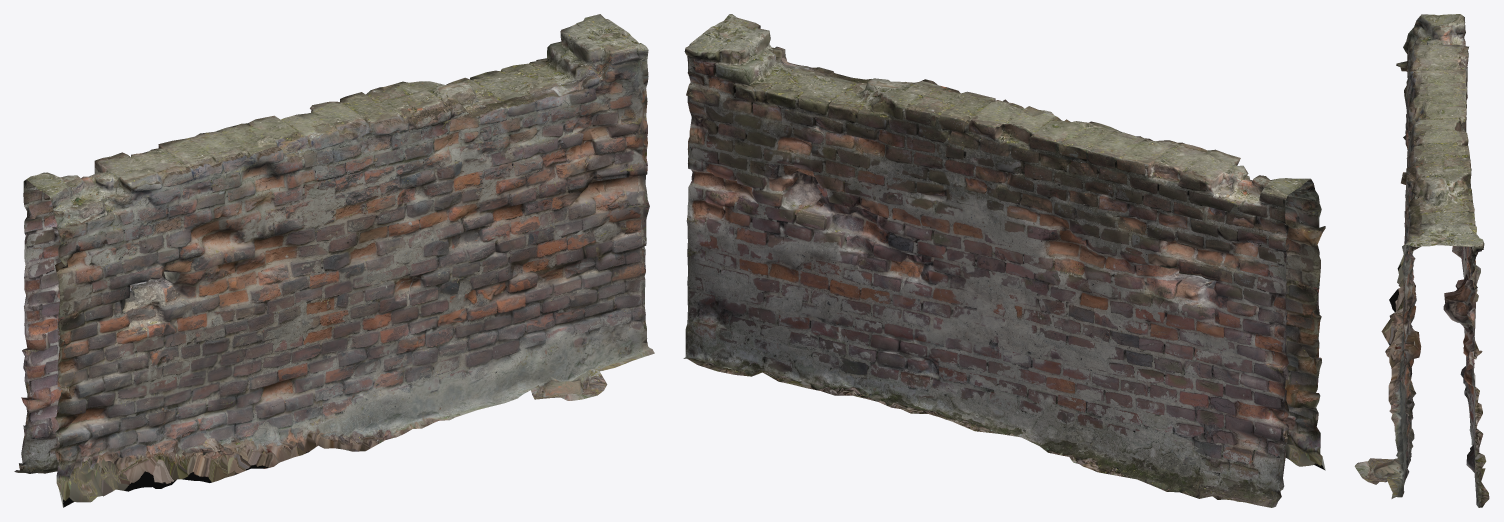
The model's file is sm_Fence_02_01.fbx.
The picture shows the model from 3 angles, left to right: view 1: azimuth 30°, elevation 25°; view 2: azimuth 150°, elevation 25°; view 3: azimuth 270°, elevation 25°; orthographic projection. The views are drawn at different scales.
Visible parts, largest first — view 1: sm_Fence_02_01_LOD0; view 2: sm_Fence_02_01_LOD0; view 3: sm_Fence_02_01_LOD0.
Boxes of the visible parts, bbox=[...] form: sm_Fence_02_01_LOD0: bbox=[14, 14, 654, 507]; sm_Fence_02_01_LOD0: bbox=[683, 14, 1325, 507]; sm_Fence_02_01_LOD0: bbox=[1354, 14, 1489, 507].
Bounding box in the file's own units: 390 × 91.45 × 210.
